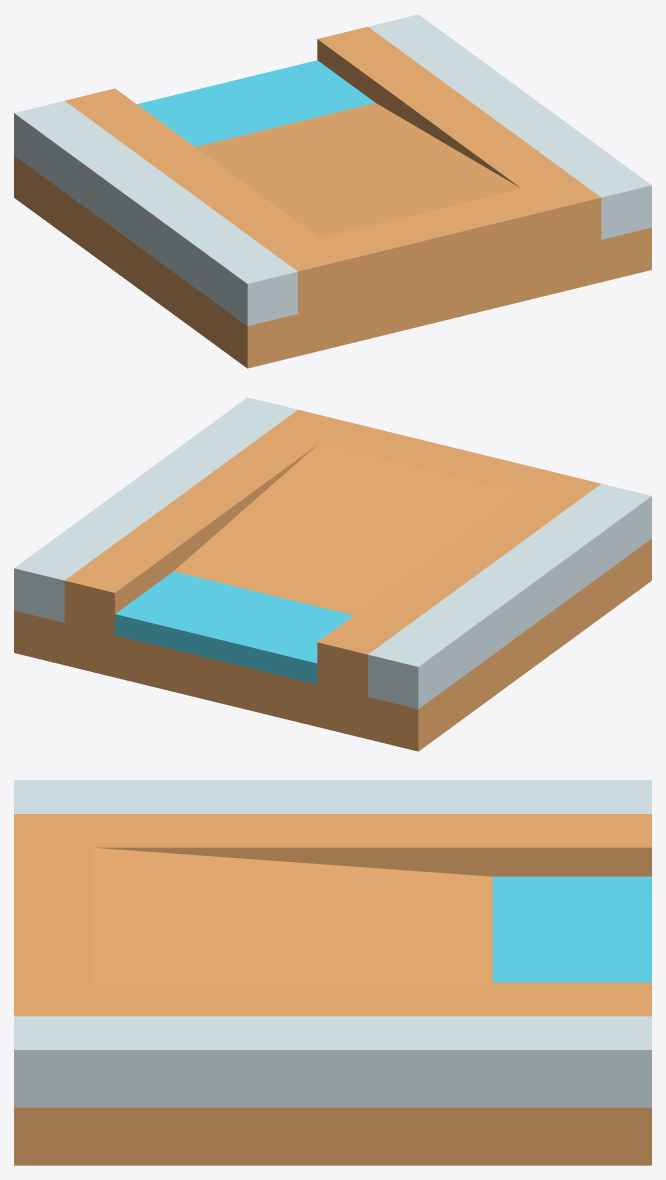
File: snowTileRiverTransition.fbx
3 renders of one model, top to bottom at view 1: azimuth 30°, elevation 25°; view 2: azimuth 150°, elevation 25°; view 3: azimuth 270°, elevation 25°, orthographic. The views are drawn at different scales.
Visible parts, largest first — view 1: snow_tile_riverTransition; view 2: snow_tile_riverTransition; view 3: snow_tile_riverTransition.
Part boxes in pixels (bbox=[...]): snow_tile_riverTransition: bbox=[14, 14, 651, 368]; snow_tile_riverTransition: bbox=[14, 397, 651, 751]; snow_tile_riverTransition: bbox=[14, 780, 651, 1165].
Size of the model in its own units: 39.37 by 7.87 by 39.37.
